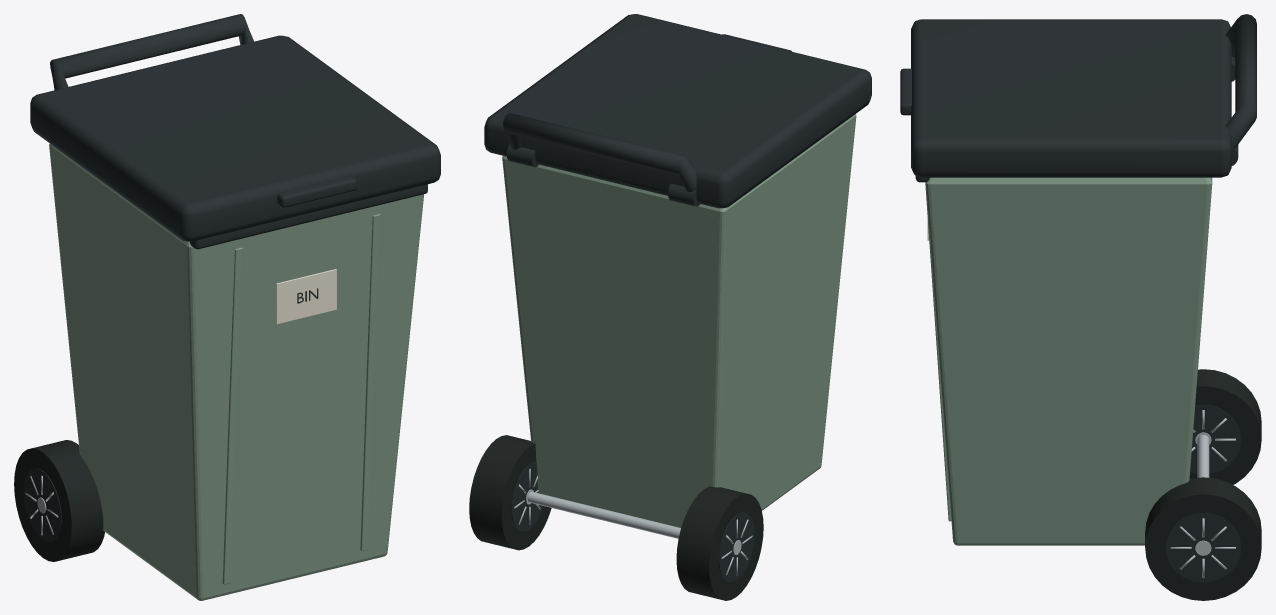
File: outdoor-wheelie-bin.glb
3 renders of one model, left to right at view 1: azimuth 30°, elevation 25°; view 2: azimuth 150°, elevation 25°; view 3: azimuth 270°, elevation 25°, orthographic. The views are drawn at different scales.
Parts seen in each view (by area): view 1: outdoor-wheelie-bin authored assembly; view 2: outdoor-wheelie-bin authored assembly; view 3: outdoor-wheelie-bin authored assembly.
Boxes of the visible parts, x1,y1,x2,y2 form: outdoor-wheelie-bin authored assembly: (14, 14, 440, 600); outdoor-wheelie-bin authored assembly: (469, 14, 871, 600); outdoor-wheelie-bin authored assembly: (900, 14, 1261, 600).
Bounding box in the file's own units: 0.62 × 1.08 × 0.74.
